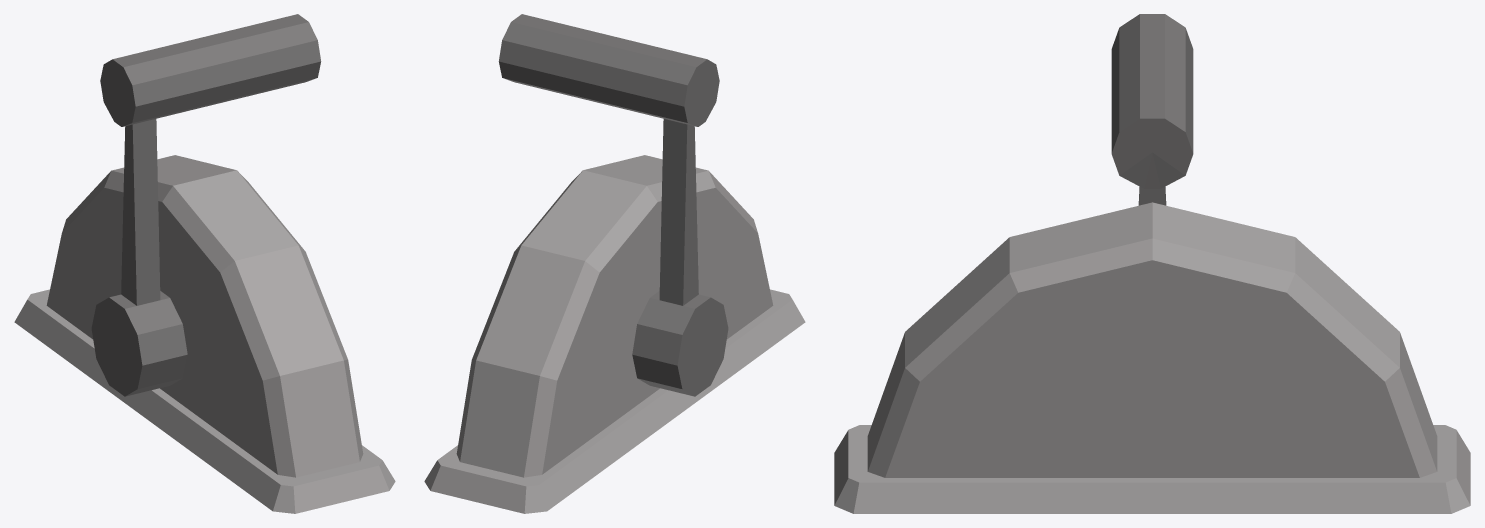
Rendered from MetalFloorLever_7.fbx.
The picture shows the model from 3 angles, left to right: view 1: azimuth 30°, elevation 25°; view 2: azimuth 150°, elevation 25°; view 3: azimuth 270°, elevation 25°; orthographic projection. The views are drawn at different scales.
Visible parts, largest first — view 1: MetalFloorLever_7_Casing, MetalFloorLever_7_Handle; view 2: MetalFloorLever_7_Casing, MetalFloorLever_7_Handle; view 3: MetalFloorLever_7_Casing, MetalFloorLever_7_Handle.
Boxes of the visible parts, x1=… form: MetalFloorLever_7_Casing: x1=14, y1=155, x2=395, y2=513; MetalFloorLever_7_Handle: x1=91, y1=14, x2=321, y2=396; MetalFloorLever_7_Casing: x1=424, y1=155, x2=805, y2=513; MetalFloorLever_7_Handle: x1=498, y1=14, x2=728, y2=396; MetalFloorLever_7_Casing: x1=834, y1=202, x2=1470, y2=513; MetalFloorLever_7_Handle: x1=1111, y1=14, x2=1193, y2=205.
Size of the model in its own units: 25.6 by 47.18 by 65.36.
